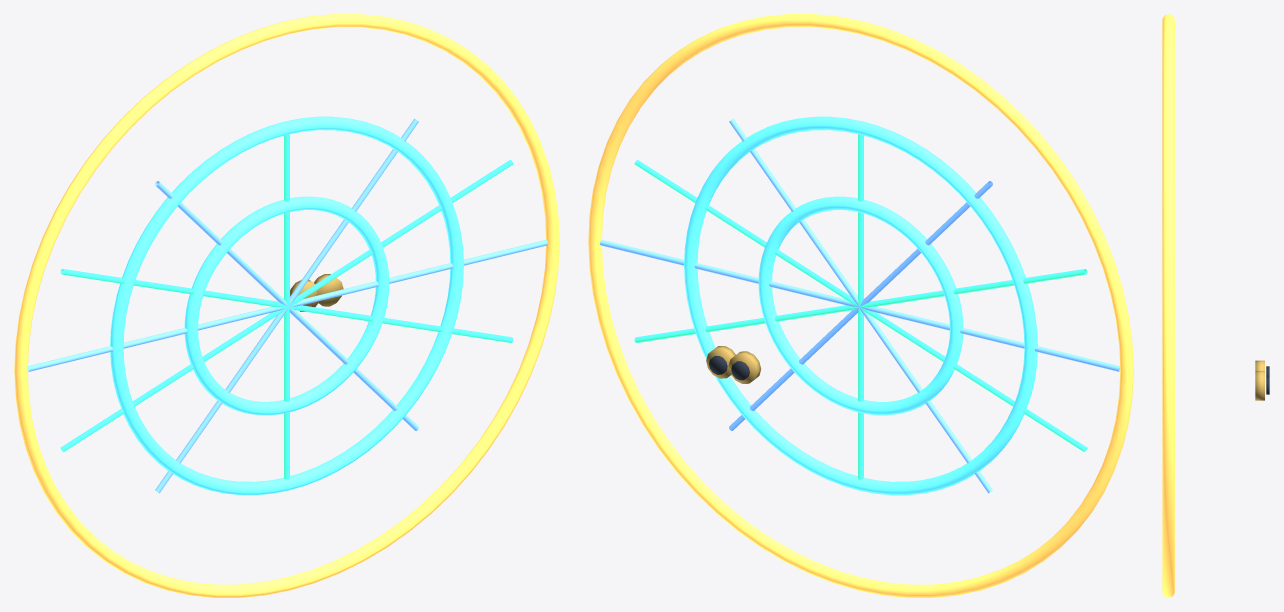
The model's file is L87_67_GravityHabitatEnvironmentHologram_Fitted.fbx.
3 renders of one model, left to right at view 1: azimuth 30°, elevation 25°; view 2: azimuth 150°, elevation 25°; view 3: azimuth 270°, elevation 25°, orthographic. The views are drawn at different scales.
Visible parts, largest first — view 1: L87_GravityHabitatEnvironmentHologram_ANIM_ARTIFICIAL_GRAVIT (×4), L87_GravityHabitatEnvironmentHologram_Static__tintF5A62B; view 2: L87_GravityHabitatEnvironmentHologram_ANIM_ARTIFICIAL_GRAVIT (×4), L87_GravityHabitatEnvironmentHologram_Static__tintF5A62B; view 3: L87_GravityHabitatEnvironmentHologram_ANIM_ARTIFICIAL_GRAVIT, L87_GravityHabitatEnvironmentHologram_Static__tintF5A62B.
Part boxes in pixels (bbox=[...]): L87_GravityHabitatEnvironmentHologram_ANIM_ARTIFICIAL_GRAVIT (×4): bbox=[14, 14, 559, 597]; L87_GravityHabitatEnvironmentHologram_Static__tintF5A62B: bbox=[290, 274, 343, 311]; L87_GravityHabitatEnvironmentHologram_ANIM_ARTIFICIAL_GRAVIT (×4): bbox=[588, 14, 1133, 597]; L87_GravityHabitatEnvironmentHologram_Static__tintF5A62B: bbox=[706, 346, 761, 383]; L87_GravityHabitatEnvironmentHologram_ANIM_ARTIFICIAL_GRAVIT: bbox=[1162, 14, 1174, 597]; L87_GravityHabitatEnvironmentHologram_Static__tintF5A62B: bbox=[1255, 360, 1264, 400].
Size of the model in its own units: 24.54 by 24.54 by 4.51.
